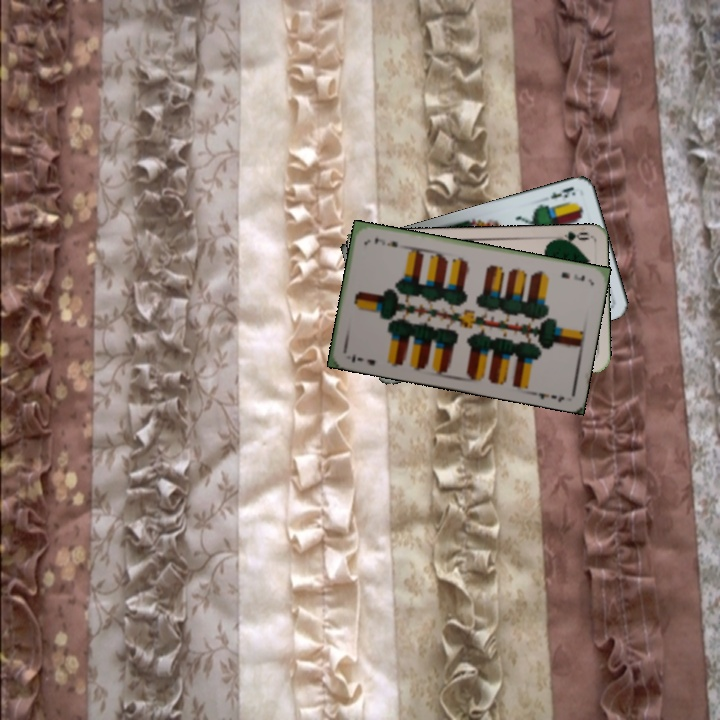E7: (348, 350, 378, 368), (557, 268, 587, 284)
EK: (547, 182, 576, 201)
GO: (551, 228, 591, 248)
